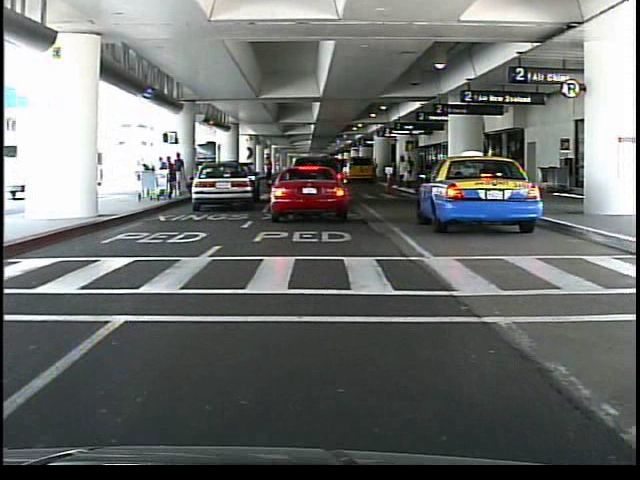person: (330, 156, 343, 202), (176, 153, 189, 198), (396, 156, 410, 192), (264, 156, 278, 189), (314, 166, 325, 202), (410, 155, 414, 187)
